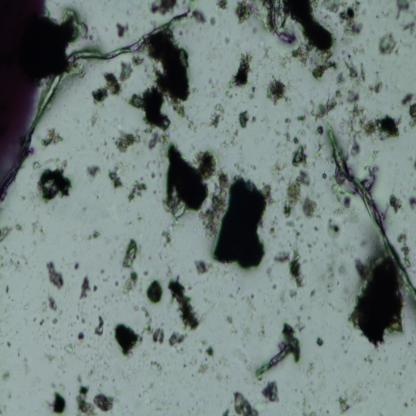Background material: (131, 34, 194, 135), (261, 1, 337, 78), (352, 252, 408, 346), (160, 145, 215, 221), (30, 12, 85, 76), (252, 318, 302, 379), (334, 51, 384, 107), (340, 102, 403, 143), (281, 166, 321, 226), (166, 272, 200, 329), (35, 162, 74, 208), (112, 315, 151, 358), (332, 0, 364, 52), (273, 239, 305, 291), (203, 172, 228, 227), (75, 382, 113, 416), (225, 52, 255, 90), (90, 72, 118, 108), (311, 90, 342, 120), (230, 388, 260, 416), (265, 78, 292, 105), (39, 123, 65, 150), (282, 116, 307, 144), (34, 344, 66, 365), (142, 126, 170, 149), (394, 0, 414, 32), (136, 357, 164, 379), (150, 0, 179, 21), (330, 182, 352, 209), (197, 342, 214, 376), (400, 93, 416, 129), (288, 142, 308, 170), (235, 2, 259, 25), (124, 179, 148, 202), (46, 260, 65, 289), (158, 224, 176, 254), (207, 101, 227, 128), (107, 159, 124, 190), (120, 272, 141, 297), (46, 389, 67, 414), (218, 128, 238, 154), (397, 230, 411, 267), (122, 238, 138, 270), (298, 392, 319, 416), (262, 376, 280, 404), (114, 130, 138, 151), (205, 74, 223, 102), (380, 30, 398, 58), (303, 354, 318, 387), (386, 191, 404, 216), (271, 161, 288, 186), (323, 217, 341, 240), (146, 278, 163, 302), (233, 162, 255, 180), (62, 334, 78, 358), (270, 208, 282, 240), (314, 125, 324, 163), (150, 325, 166, 348), (119, 59, 134, 83), (193, 257, 213, 275), (73, 305, 89, 327), (84, 159, 101, 179), (168, 329, 186, 347), (336, 395, 352, 415), (190, 10, 210, 26), (0, 222, 13, 246), (78, 278, 92, 300), (86, 108, 102, 127), (237, 108, 251, 129), (94, 314, 106, 337), (225, 314, 237, 336), (0, 366, 13, 384), (361, 349, 376, 364), (115, 22, 129, 37), (86, 229, 103, 241), (30, 221, 43, 236), (46, 296, 56, 311), (407, 194, 416, 210), (76, 329, 86, 343), (287, 289, 298, 301), (217, 0, 228, 12), (51, 314, 61, 327), (37, 314, 47, 326), (315, 335, 324, 347), (14, 222, 24, 231), (72, 260, 80, 270), (113, 278, 121, 288), (6, 283, 12, 296), (90, 285, 98, 294), (311, 290, 316, 298), (252, 117, 258, 123), (8, 342, 12, 350)
Cellulose filter fibre: (37, 8, 190, 123), (325, 128, 416, 294)
Fragment: (209, 177, 270, 266)
Pen: (0, 0, 45, 200)
